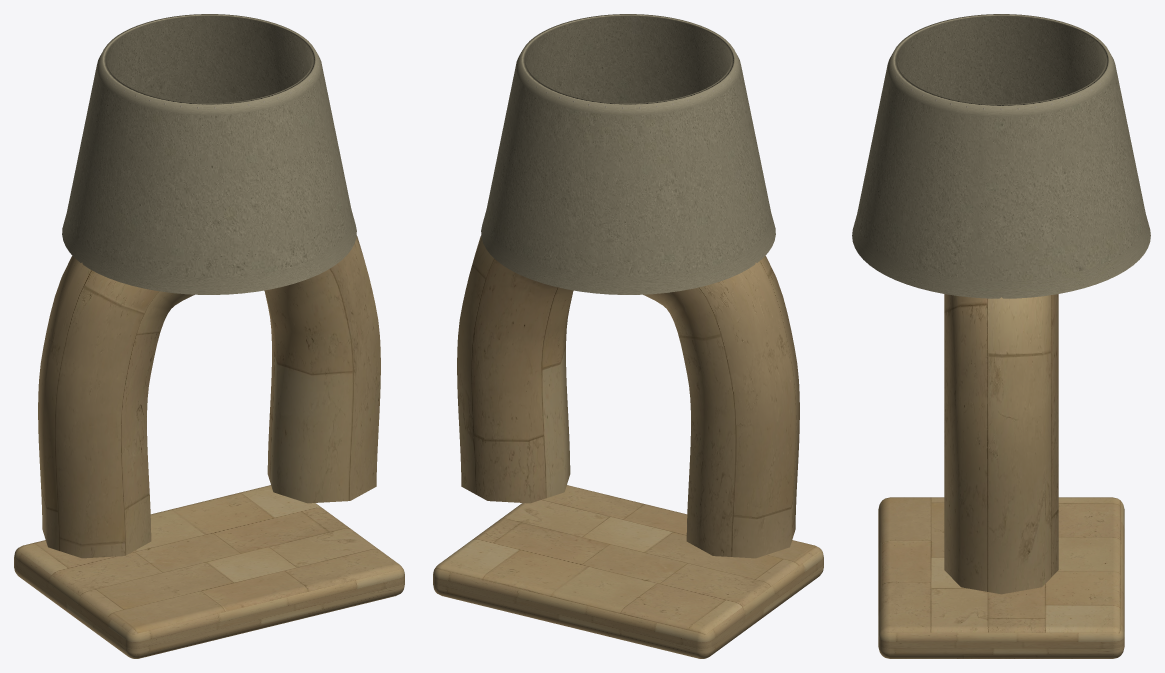
Rendered from luxury-arc-lamp.glb.
3 renders of one model, left to right at view 1: azimuth 30°, elevation 25°; view 2: azimuth 150°, elevation 25°; view 3: azimuth 270°, elevation 25°, orthographic.
Parts seen in each view (by area): view 1: stone_0, linen_3; view 2: stone_0, linen_3; view 3: linen_3, stone_0.
Part boxes in pixels (x1,y1,x2,y2): stone_0: [14, 235, 404, 658]; linen_3: [62, 14, 356, 294]; stone_0: [433, 235, 823, 658]; linen_3: [481, 14, 775, 294]; linen_3: [852, 14, 1150, 298]; stone_0: [878, 294, 1124, 658].
Size of the model in its own units: 0.4415 by 0.67 by 0.34.
5 materials, 2 textured.
